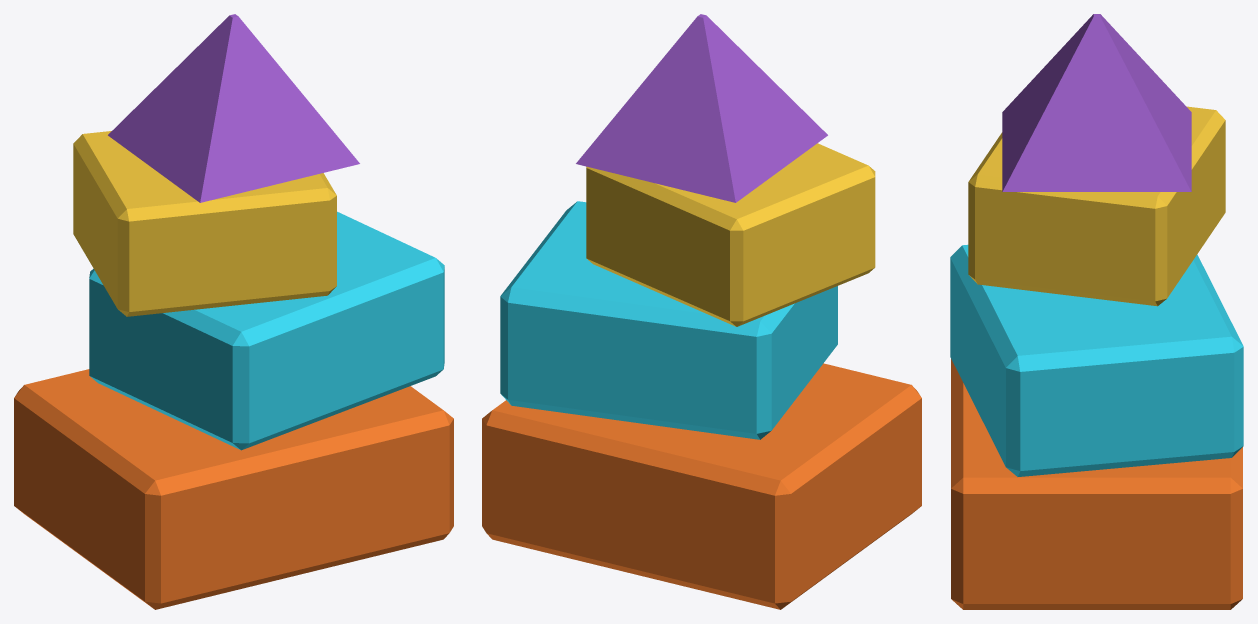
File: stacked_toy_buildings.glb
The picture shows the model from 3 angles, left to right: view 1: azimuth 30°, elevation 25°; view 2: azimuth 150°, elevation 25°; view 3: azimuth 270°, elevation 25°; orthographic projection. The views are drawn at different scales.
Parts seen in each view (by area): view 1: stacked_toy_buildings; view 2: stacked_toy_buildings; view 3: stacked_toy_buildings.
Part boxes in pixels (box(x1,y1,x2,y2)): stacked_toy_buildings: box(14, 14, 453, 609); stacked_toy_buildings: box(482, 14, 921, 609); stacked_toy_buildings: box(950, 14, 1243, 609).
Size of the model in its own units: 1.59 by 2.37 by 1.21.
